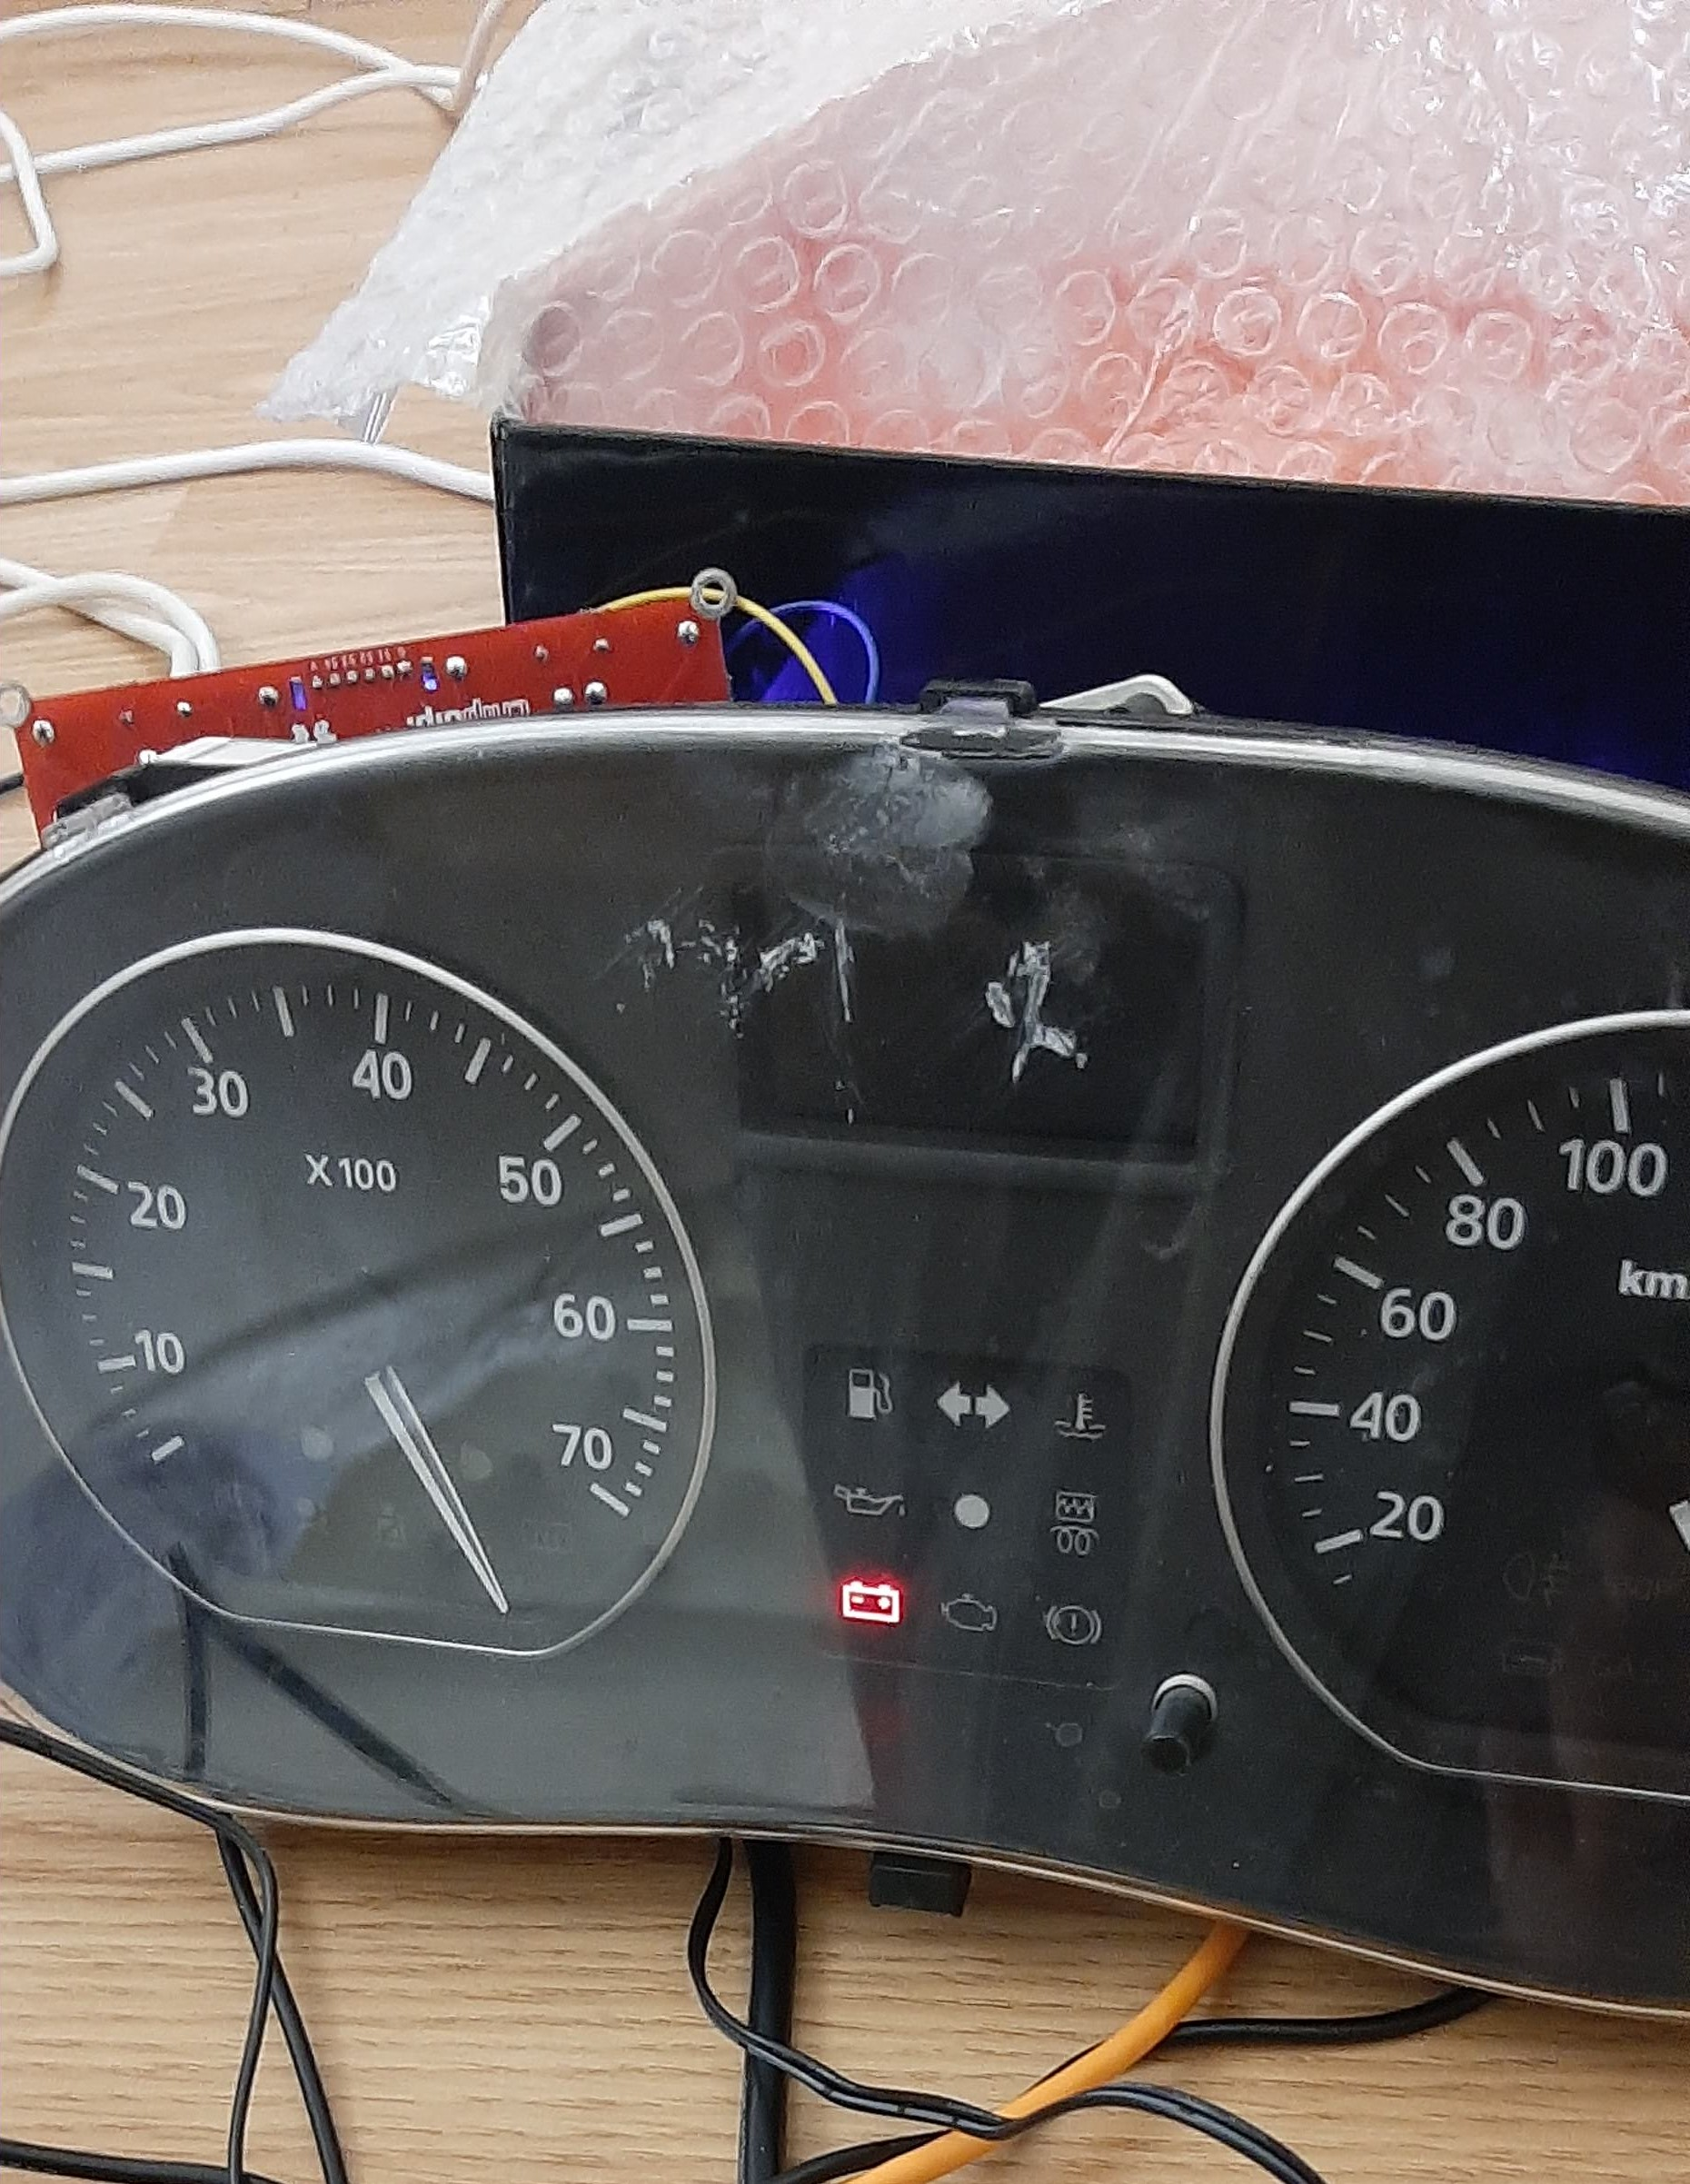accomulator29: (835, 1576, 910, 1631)
